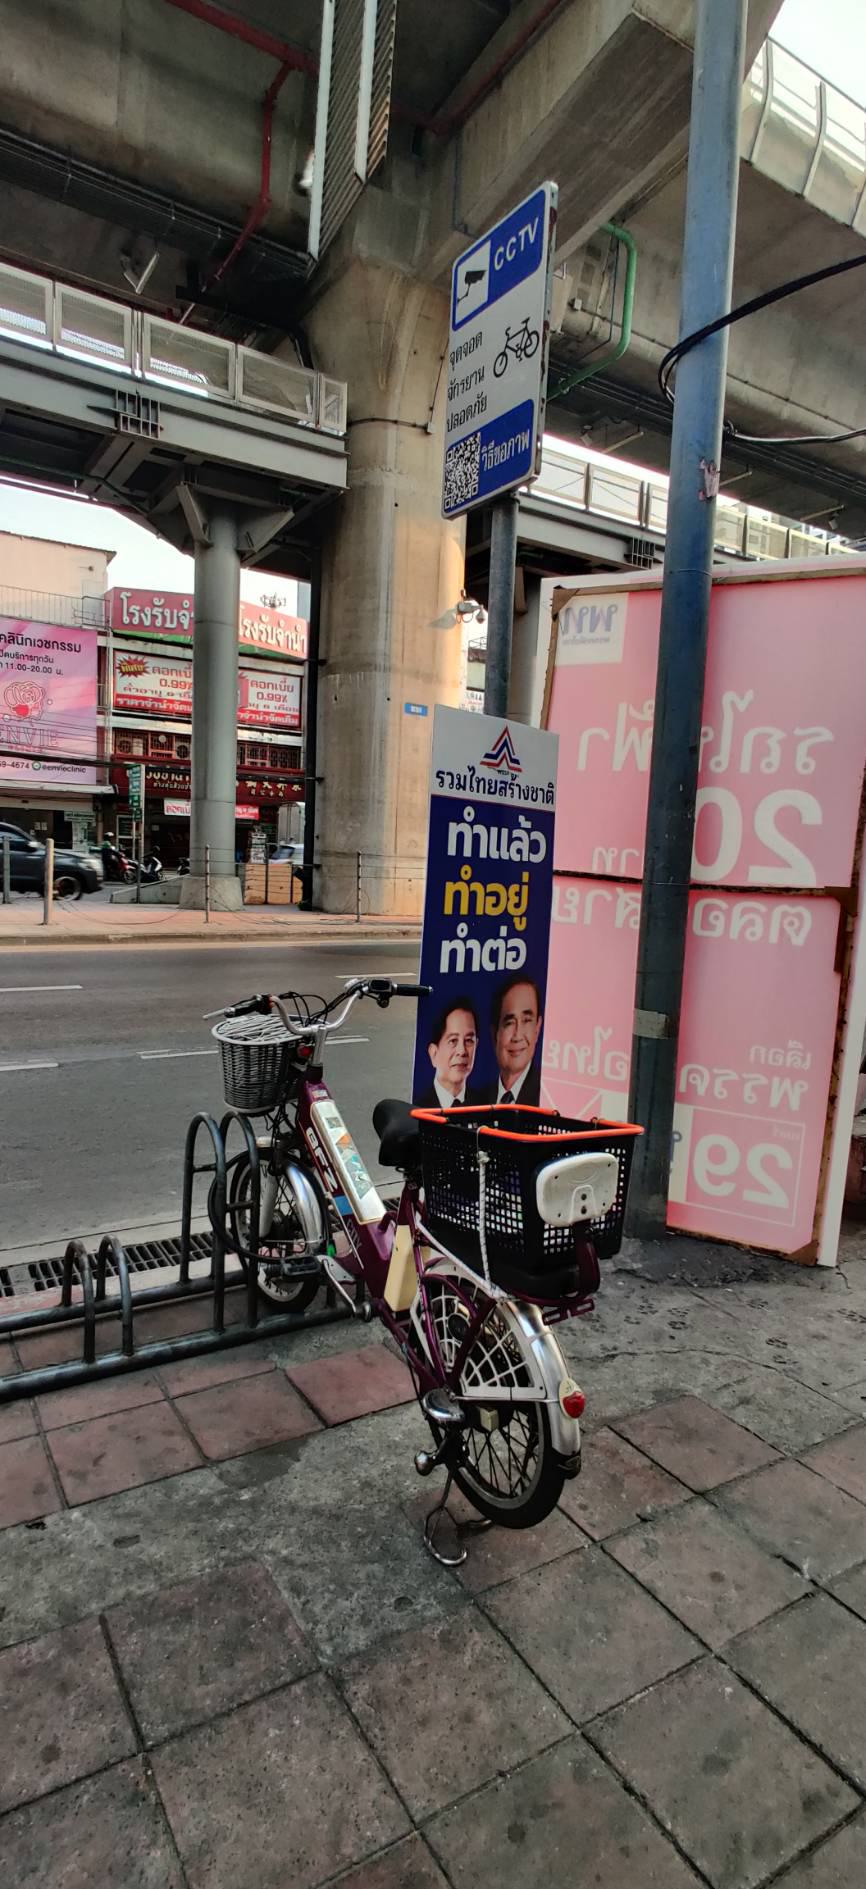Banner: (422, 698, 562, 1177)
